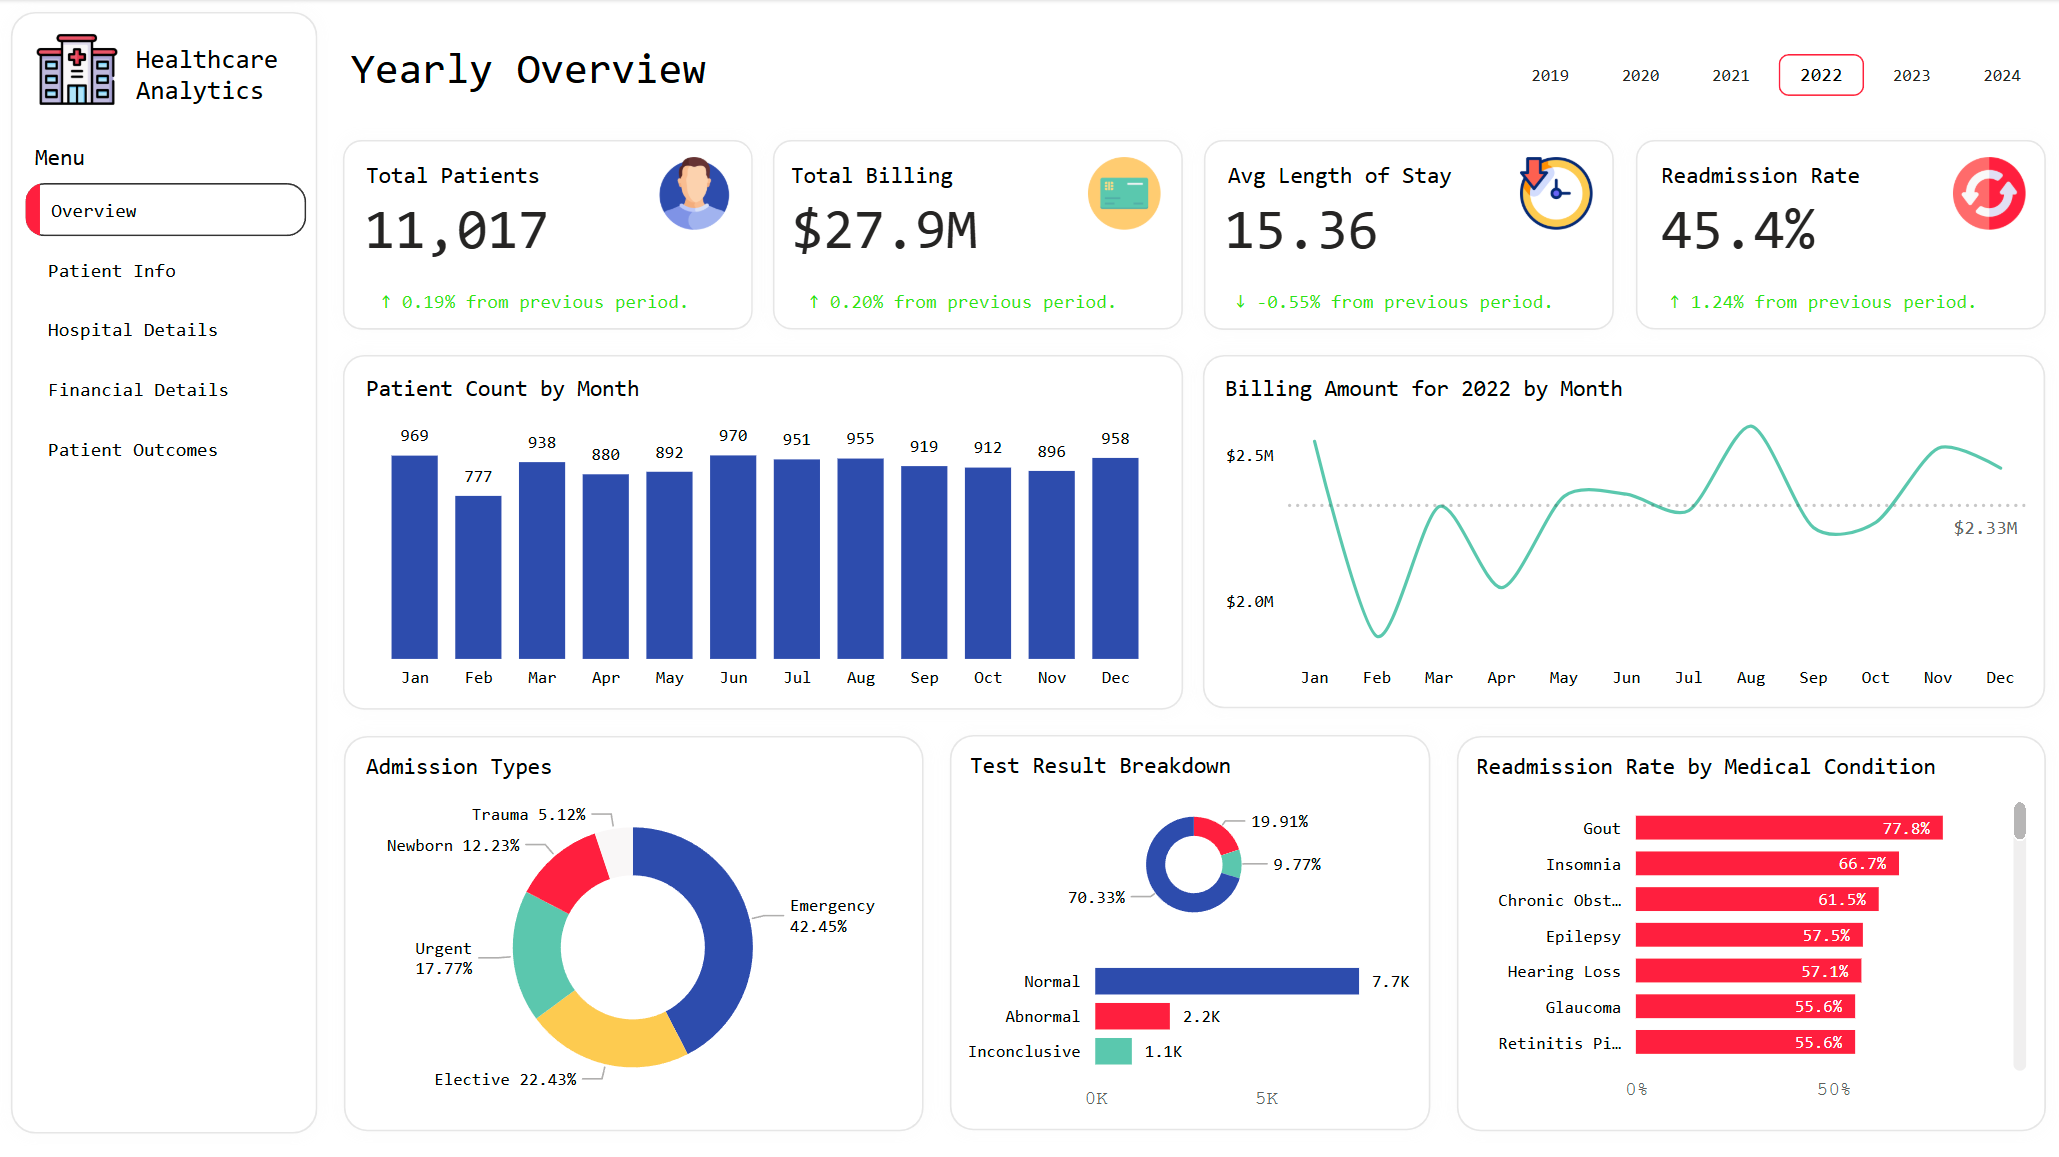

Layout of this report page (visuals, bound fields, positions):
{"tool":"powerbi","page":{"name":"Overview","canvas":[1280,720],"ordinal":0},"visuals":[{"type":"shape","box":[582,447.7,314.2,261.4],"z":0},{"type":"shape","box":[896.2,448.5,380.6,261.4],"z":1000},{"type":"shape","box":[739.4,79.2,270.3,133.9],"z":2000},{"type":"shape","box":[206.3,448.5,375.8,261.4],"z":3000},{"type":"shape","box":[738.9,212.7,538.1,235.1],"z":4000},{"type":"shape","box":[206,212.7,536.6,235.8],"z":5000},{"type":"shape","box":[472.4,79.1,270.2,133.6],"z":6000},{"type":"shape","box":[1006.8,79.1,270.2,133.6],"z":7000},{"type":"shape","box":[205.7,79.1,270,133.6],"z":8000},{"type":"cardVisual","fields":{"Data":["healthcare_dataset_cleaned.Patient Count"]},"box":[215,102,163.6,73.8],"z":9000},{"type":"cardVisual","fields":{"Data":["Sum(healthcare_dataset_cleaned.Billing Amount)"]},"box":[480,102,192.1,69.2],"z":10000},{"type":"cardVisual","fields":{"Data":["healthcare_dataset_cleaned.Readmission Rate"]},"box":[1018.4,102,179.5,69.2],"z":11000},{"type":"lineChart","fields":{"Category":["DateTable.Month Short"],"Y":["Sum(healthcare_dataset_cleaned.Billing Amount)"]},"box":[755.3,232.9,506,203],"z":12000},{"type":"clusteredColumnChart","title":"   Patient Count by Month","fields":{"Category":["DateTable.Month Short"],"Y":["CountNonNull(healthcare_dataset_cleaned.Name)"]},"box":[223.2,232.9,505.3,203],"z":13000},{"type":"barChart","fields":{"Y":["healthcare_dataset_cleaned.Readmission Rate1"],"Category":["healthcare_dataset_cleaned.Medical Condition"]},"box":[910.6,466.9,351,223.9],"z":14000},{"type":"donutChart","title":"Admission Types","fields":{"Y":["CountNonNull(healthcare_dataset_cleaned.Admission Type)1"],"Category":["healthcare_dataset_cleaned.Admission Type"]},"box":[223.1,466.9,340.6,223.9],"z":15000},{"type":"textbox","box":[223,96,153.5,30.1],"z":16000},{"type":"textbox","box":[486.5,96,153.5,30.1],"z":17000},{"type":"textbox","box":[757.2,96.3,184.6,29.9],"z":18000},{"type":"textbox","box":[1025.8,96,153.5,30.1],"z":19000},{"type":"image","box":[396,92.7,71,55],"z":20000},{"type":"image","box":[1198.2,92.7,70.2,55],"z":21000},{"type":"image","box":[930.3,92.7,70.2,55],"z":22000},{"type":"image","box":[662.4,92.7,70.2,55],"z":23000},{"type":"shape","box":[0,0,206,711.3],"z":24000},{"type":"pageNavigator","box":[13.2,113.7,182.9,181.4],"z":25000},{"type":"advancedSlicerVisual","fields":{"Values":["DateTable.Year"]},"box":[931.2,34.1,342.4,26.4],"z":26000},{"type":"textbox","box":[213.8,22.3,285.6,50.8],"z":27000},{"type":"cardVisual","fields":{"Data":["Avg(healthcare_dataset_cleaned.Length of Stay)"]},"box":[748,102.2,178.7,69.2],"z":28000},{"type":"barChart","fields":{"Y":["CountNonNull(healthcare_dataset_cleaned.Test Results)"],"Category":["healthcare_dataset_cleaned.Test Results"]},"box":[593.9,578.8,295.4,118.5],"z":29000},{"type":"donutChart","fields":{"Y":["CountNonNull(healthcare_dataset_cleaned.Test Results)"],"Series":["healthcare_dataset_cleaned.Test Results"]},"box":[592.9,493.6,296,84.9],"z":30000},{"type":"textbox","box":[597.2,461.3,205.5,31.2],"z":31000},{"type":"cardVisual","fields":{"Data":["healthcare_dataset_cleaned.Rate % Change with Arrows"]},"box":[1024,170.9,67,30.2],"z":35000},{"type":"textbox","box":[1089.9,173.5,178.5,29.7],"z":36000},{"type":"cardVisual","fields":{"Data":["healthcare_dataset_cleaned.LOS % Change with Arrows"]},"box":[753,171,67,30.2],"z":38000},{"type":"textbox","box":[822.2,174.1,173.5,31.6],"z":39000},{"type":"textbox","box":[18,84.9,86.1,32.2],"z":40000},{"type":"image","box":[18.1,13.6,62.7,59.7],"z":41000},{"type":"textbox","box":[80.8,22.7,114.8,50.6],"z":42000},{"type":"card","fields":{"Values":["healthcare_dataset_cleaned.total patients title"]},"box":[215.2,169.2,235.6,40.9],"z":42001},{"type":"card","fields":{"Values":["healthcare_dataset_cleaned.total patients title"]},"box":[480,169.2,235.6,40.9],"z":42002}]}

Visuals, with their boxes in screenshot pixels (x1, y1, x2, y2), scaled from the page's 1280x720 canvas onto the 2059x1157 screenshot:
shape: pyautogui.locateOnScreen(936, 719, 1442, 1139)
shape: pyautogui.locateOnScreen(1442, 721, 2054, 1141)
shape: pyautogui.locateOnScreen(1189, 127, 1624, 342)
shape: pyautogui.locateOnScreen(332, 721, 936, 1141)
shape: pyautogui.locateOnScreen(1189, 342, 2054, 720)
shape: pyautogui.locateOnScreen(331, 342, 1195, 721)
shape: pyautogui.locateOnScreen(760, 127, 1195, 342)
shape: pyautogui.locateOnScreen(1620, 127, 2054, 342)
shape: pyautogui.locateOnScreen(331, 127, 765, 342)
cardVisual - healthcare_dataset_cleaned.Patient Count: pyautogui.locateOnScreen(346, 164, 609, 283)
cardVisual - Sum(healthcare_dataset_cleaned.Billing Amount): pyautogui.locateOnScreen(772, 164, 1081, 275)
cardVisual - healthcare_dataset_cleaned.Readmission Rate: pyautogui.locateOnScreen(1638, 164, 1927, 275)
lineChart - DateTable.Month Short x Sum(healthcare_dataset_cleaned.Billing Amount): pyautogui.locateOnScreen(1215, 374, 2029, 700)
"   Patient Count by Month" clusteredColumnChart: pyautogui.locateOnScreen(359, 374, 1172, 700)
barChart - healthcare_dataset_cleaned.Readmission Rate1 x healthcare_dataset_cleaned.Medical Condition: pyautogui.locateOnScreen(1465, 750, 2029, 1110)
"Admission Types" donutChart: pyautogui.locateOnScreen(359, 750, 907, 1110)
textbox: pyautogui.locateOnScreen(359, 154, 606, 203)
textbox: pyautogui.locateOnScreen(783, 154, 1030, 203)
textbox: pyautogui.locateOnScreen(1218, 155, 1515, 203)
textbox: pyautogui.locateOnScreen(1650, 154, 1897, 203)
image: pyautogui.locateOnScreen(637, 149, 751, 237)
image: pyautogui.locateOnScreen(1927, 149, 2040, 237)
image: pyautogui.locateOnScreen(1496, 149, 1609, 237)
image: pyautogui.locateOnScreen(1066, 149, 1178, 237)
shape: pyautogui.locateOnScreen(0, 0, 331, 1143)
pageNavigator: pyautogui.locateOnScreen(21, 183, 315, 474)
advancedSlicerVisual - DateTable.Year: pyautogui.locateOnScreen(1498, 55, 2049, 97)
textbox: pyautogui.locateOnScreen(344, 36, 803, 117)
cardVisual - Avg(healthcare_dataset_cleaned.Length of Stay): pyautogui.locateOnScreen(1203, 164, 1491, 275)
barChart - CountNonNull(healthcare_dataset_cleaned.Test Results) x healthcare_dataset_cleaned.Test Results: pyautogui.locateOnScreen(955, 930, 1431, 1121)
donutChart - CountNonNull(healthcare_dataset_cleaned.Test Results) x healthcare_dataset_cleaned.Test Results: pyautogui.locateOnScreen(954, 793, 1430, 930)
textbox: pyautogui.locateOnScreen(961, 741, 1291, 791)
cardVisual - healthcare_dataset_cleaned.Rate % Change with Arrows: pyautogui.locateOnScreen(1647, 275, 1755, 323)
textbox: pyautogui.locateOnScreen(1753, 279, 2040, 327)
cardVisual - healthcare_dataset_cleaned.LOS % Change with Arrows: pyautogui.locateOnScreen(1211, 275, 1319, 323)
textbox: pyautogui.locateOnScreen(1323, 280, 1602, 331)
textbox: pyautogui.locateOnScreen(29, 136, 167, 188)
image: pyautogui.locateOnScreen(29, 22, 130, 118)
textbox: pyautogui.locateOnScreen(130, 36, 315, 118)
card - healthcare_dataset_cleaned.total patients title: pyautogui.locateOnScreen(346, 272, 725, 338)
card - healthcare_dataset_cleaned.total patients title: pyautogui.locateOnScreen(772, 272, 1151, 338)
